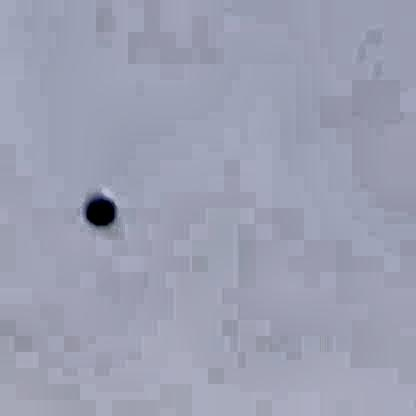golfball: (82, 183, 115, 222)
